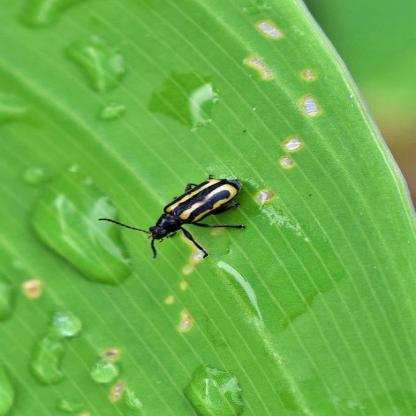beetle: (120, 177, 269, 253)
